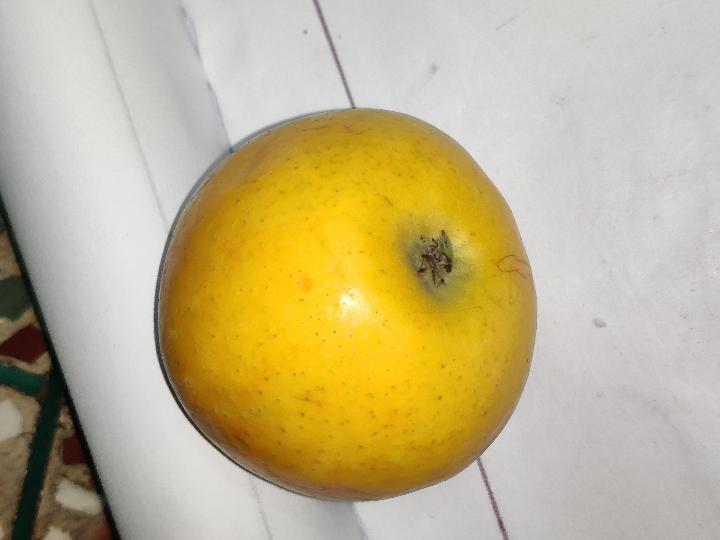apple: (158, 111, 536, 500)
surface_damage: (495, 254, 534, 289)
